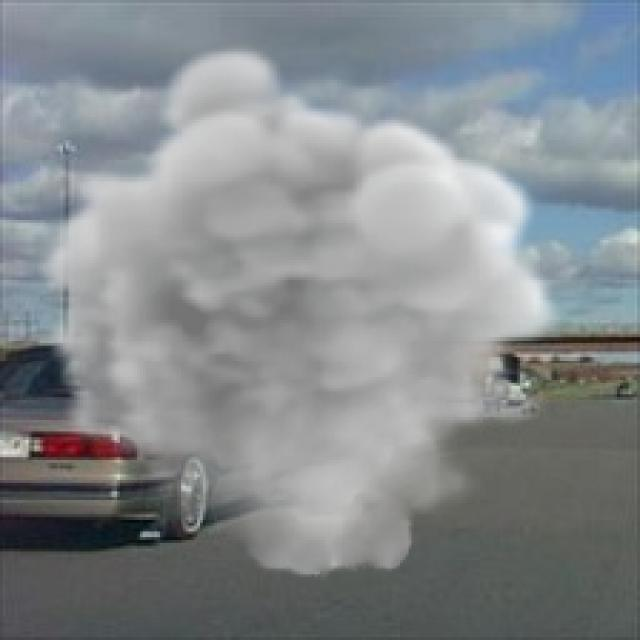smoke: (37, 40, 563, 580)
